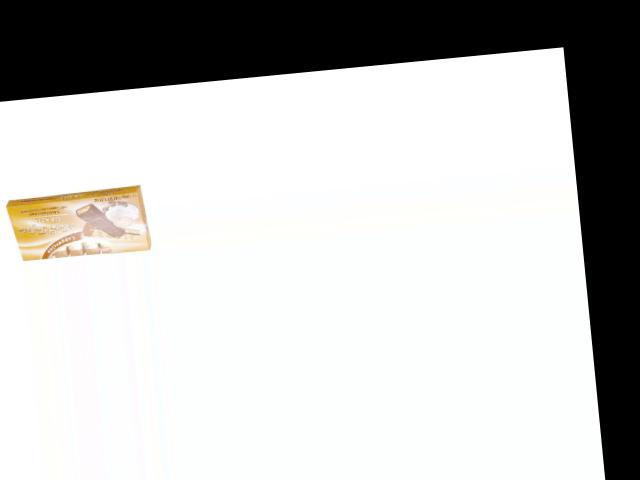chocolate: (2, 184, 152, 264)
